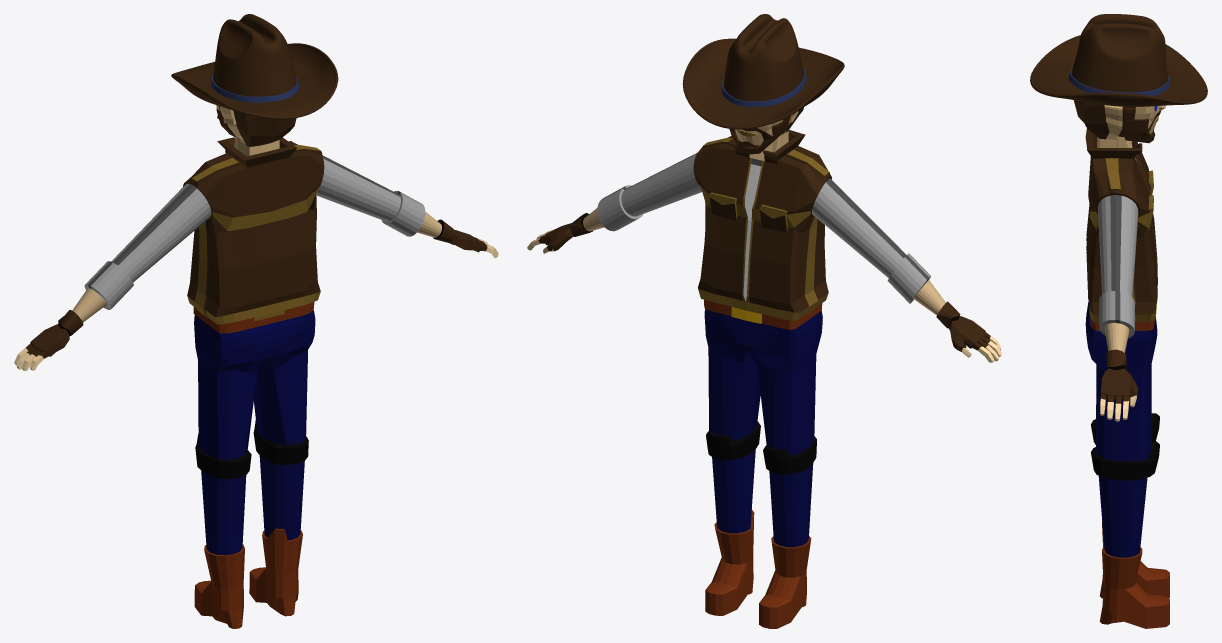
The model's file is malenew.fbx.
3 renders of one model, left to right at view 1: azimuth 30°, elevation 25°; view 2: azimuth 150°, elevation 25°; view 3: azimuth 270°, elevation 25°, orthographic. The views are drawn at different scales.
Visible parts, largest first — view 1: topi koboy; view 2: topi koboy; view 3: topi koboy.
Part boxes in pixels (box(x1,y1,x2,y2)): topi koboy: box(14, 14, 498, 628); topi koboy: box(527, 14, 1001, 628); topi koboy: box(1030, 14, 1207, 628).
Size of the model in its own units: 616 by 729 by 199.
